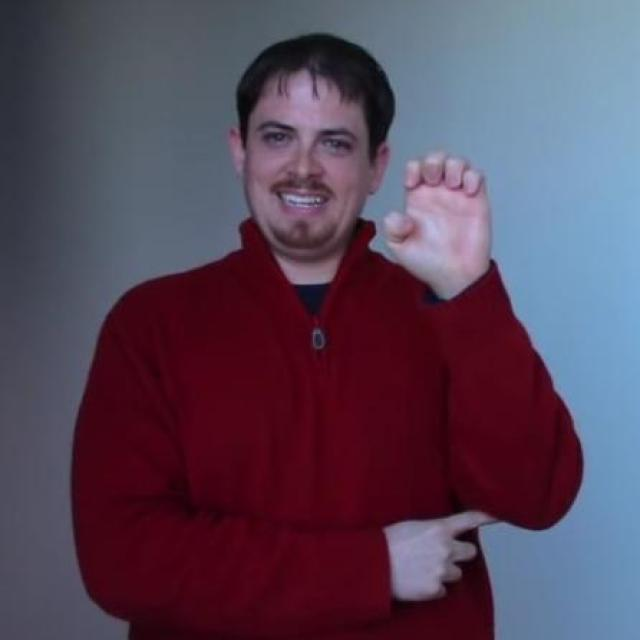E: (380, 144, 495, 290)
